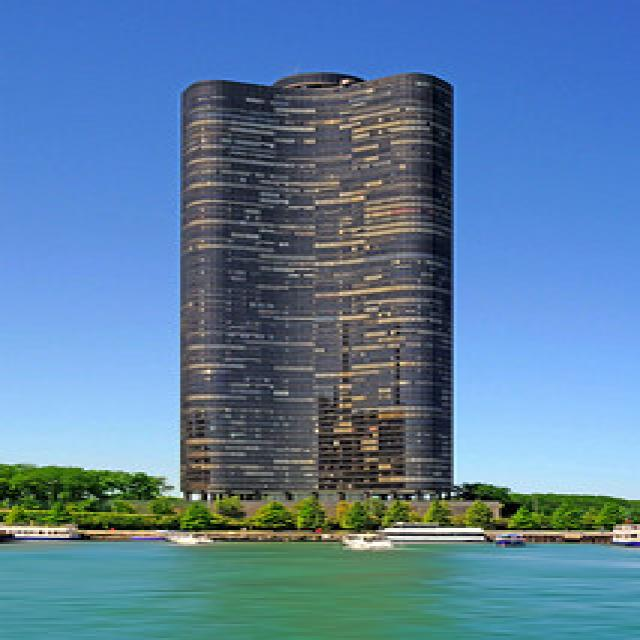Normal_building: (168, 67, 460, 505)
